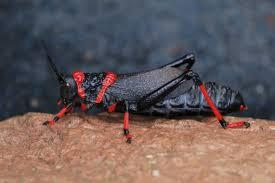insect: (38, 29, 256, 145)
